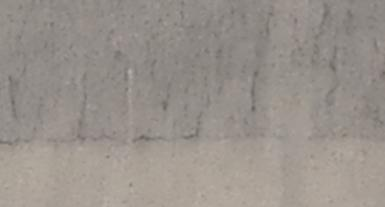fissura: (6, 113, 385, 153)
